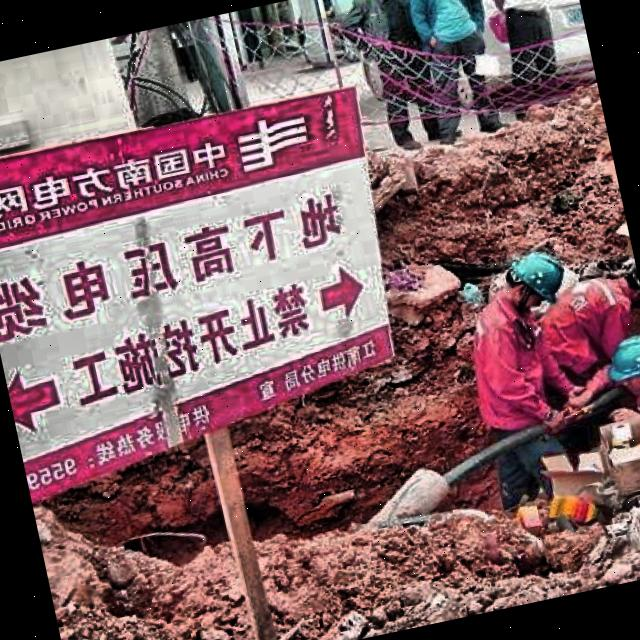helmet: (492, 242, 576, 316), (606, 327, 640, 405)
